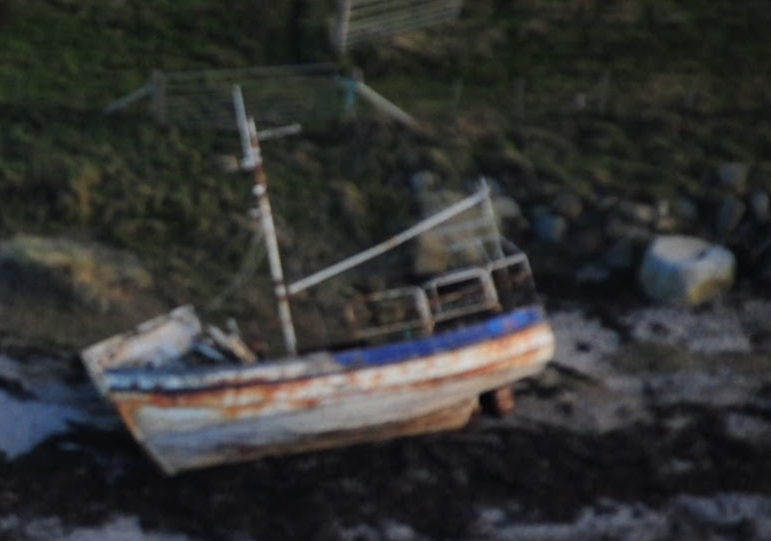boat_cabin: (69, 74, 560, 471)
white_in_green: (597, 173, 769, 350)
